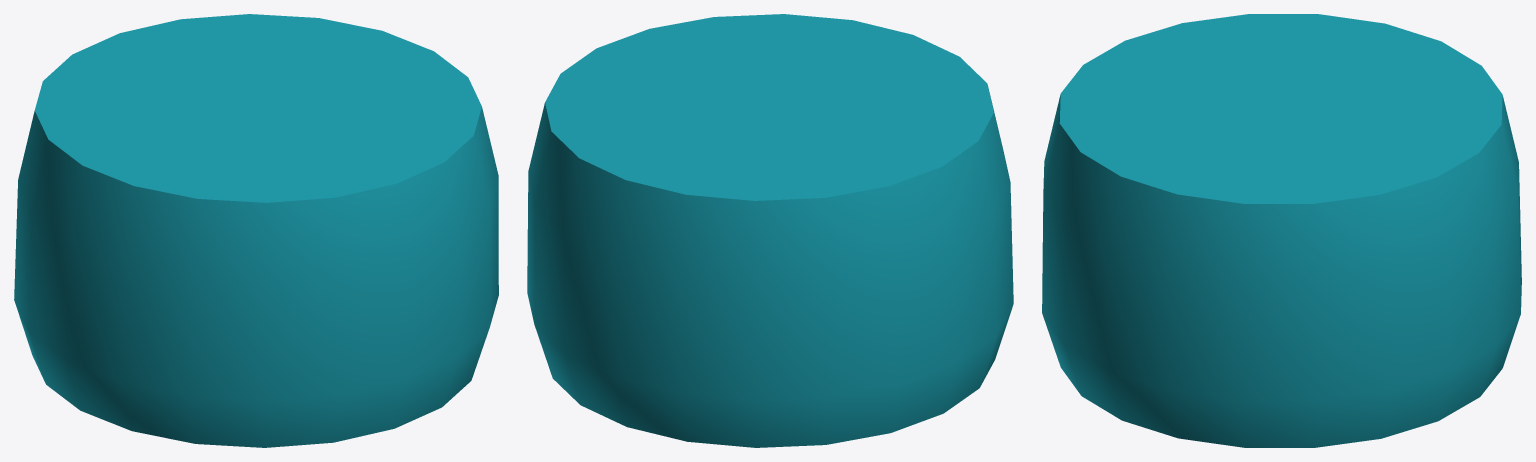
File: Blocker_Edge_Ring.fbx
3 views of the same model, side by side, from view 1: azimuth 30°, elevation 25°; view 2: azimuth 150°, elevation 25°; view 3: azimuth 270°, elevation 25° (orthographic).
Visible parts, largest first — view 1: Blocker_Edge_Ring; view 2: Blocker_Edge_Ring; view 3: Blocker_Edge_Ring.
Boxes of the visible parts, left/top/right/bottom form: Blocker_Edge_Ring: left=14, top=14, right=498, bottom=447; Blocker_Edge_Ring: left=527, top=14, right=1013, bottom=447; Blocker_Edge_Ring: left=1042, top=14, right=1521, bottom=447.
Size of the model in its own units: 1.16 by 0.66 by 1.16.
